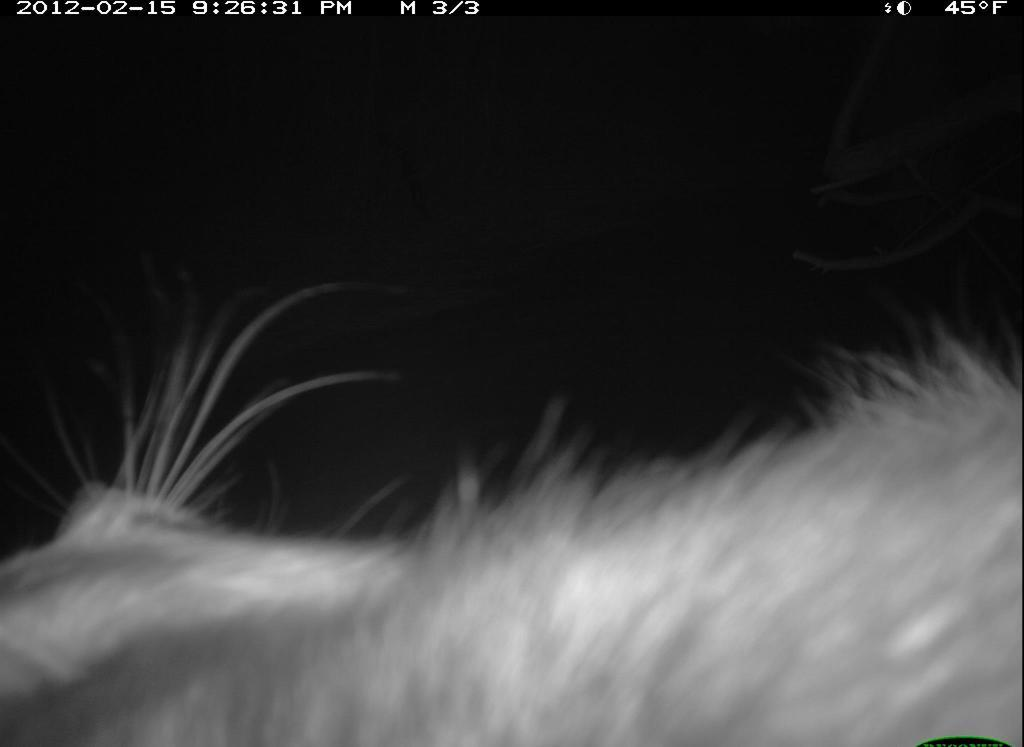raccoon: (1, 267, 1022, 747)
